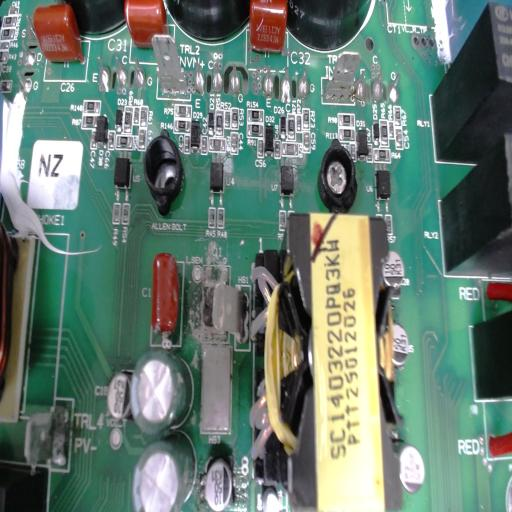pin_group: (89, 44, 149, 96), (255, 56, 313, 108), (350, 62, 405, 113), (188, 56, 245, 103)
solder_ball: (94, 50, 114, 91), (128, 51, 146, 93), (276, 64, 294, 102), (115, 48, 130, 92), (192, 62, 208, 103), (210, 61, 224, 103), (370, 66, 384, 106), (354, 65, 367, 103), (299, 64, 311, 104), (389, 74, 403, 108), (262, 62, 274, 98), (228, 61, 240, 96)
